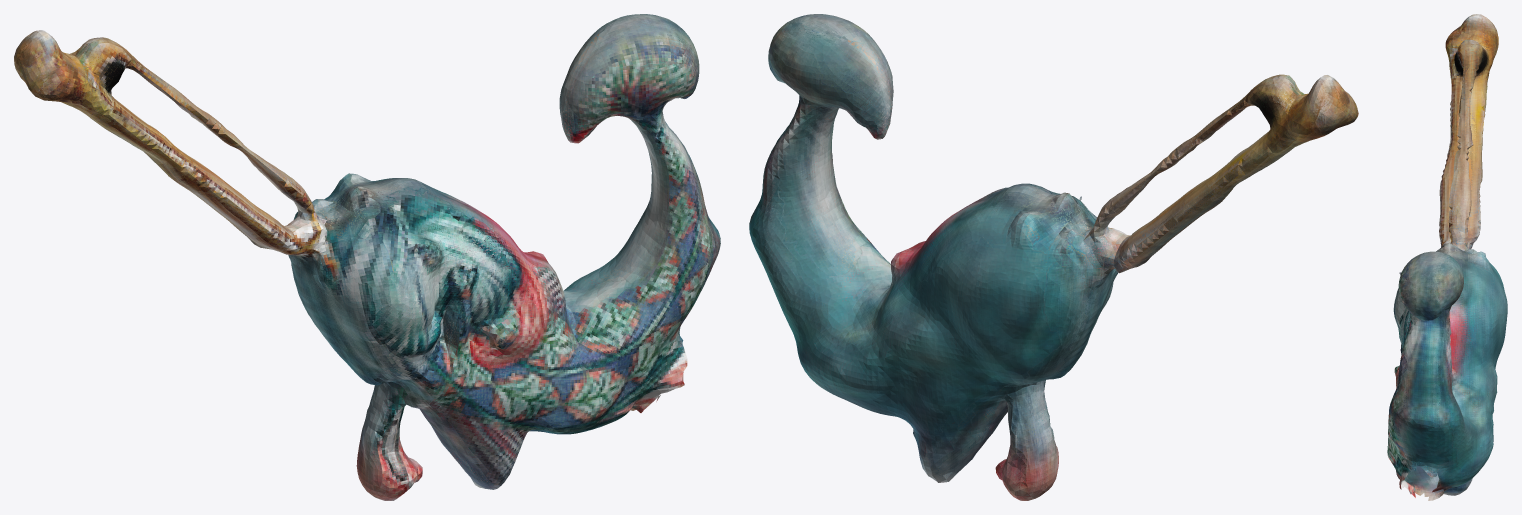
Rendered from poisson3.glb.
3 renders of one model, left to right at view 1: azimuth 30°, elevation 25°; view 2: azimuth 150°, elevation 25°; view 3: azimuth 270°, elevation 25°, orthographic. The views are drawn at different scales.
Visible parts, largest first — view 1: Mesh_0.001; view 2: Mesh_0.001; view 3: Mesh_0.001.
Part boxes in pixels (x1,y1,x2,y2): Mesh_0.001: (14,14,720,500); Mesh_0.001: (749,14,1358,500); Mesh_0.001: (1387,14,1507,500).
Size of the model in its own units: 1.4 by 1.1 by 0.3449.
1 material, 1 textured.
